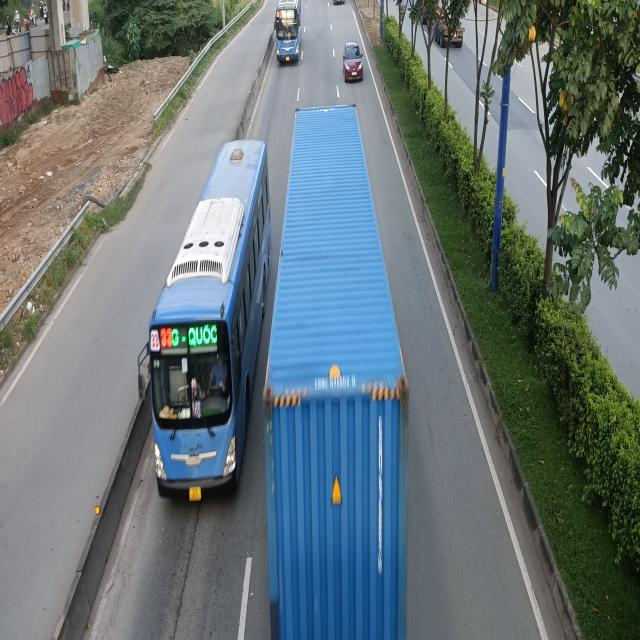car: (343, 41, 364, 81)
coach: (143, 136, 278, 505), (275, 0, 304, 61)
container: (266, 101, 410, 640)
